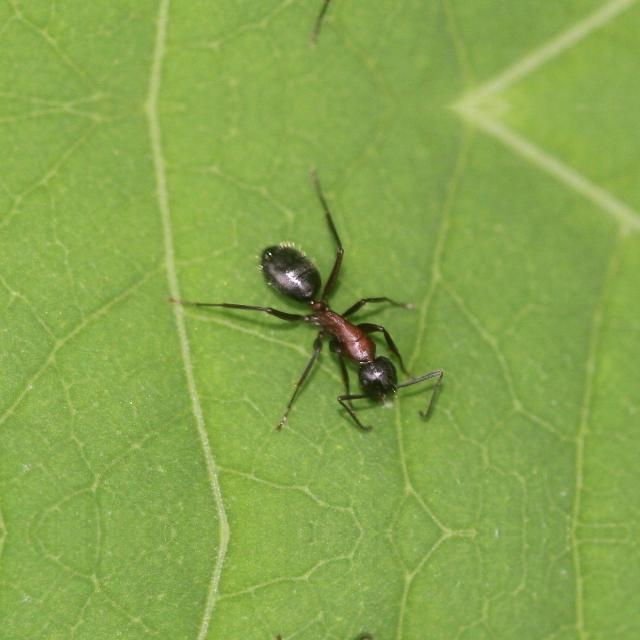Camponotus: (215, 220, 457, 432)
